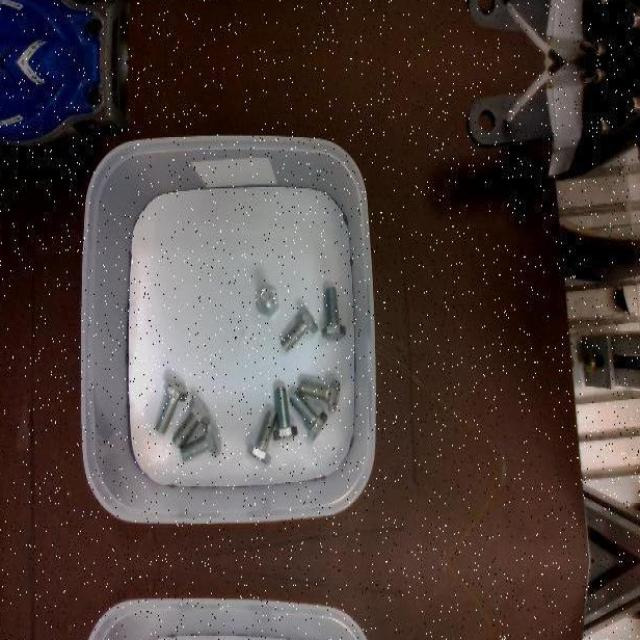screw: (172, 396, 212, 448), (290, 390, 328, 441), (155, 378, 188, 434), (282, 304, 319, 352), (248, 408, 278, 464), (181, 421, 222, 461), (299, 377, 341, 412), (273, 386, 298, 441), (322, 287, 347, 339), (256, 286, 280, 316)
